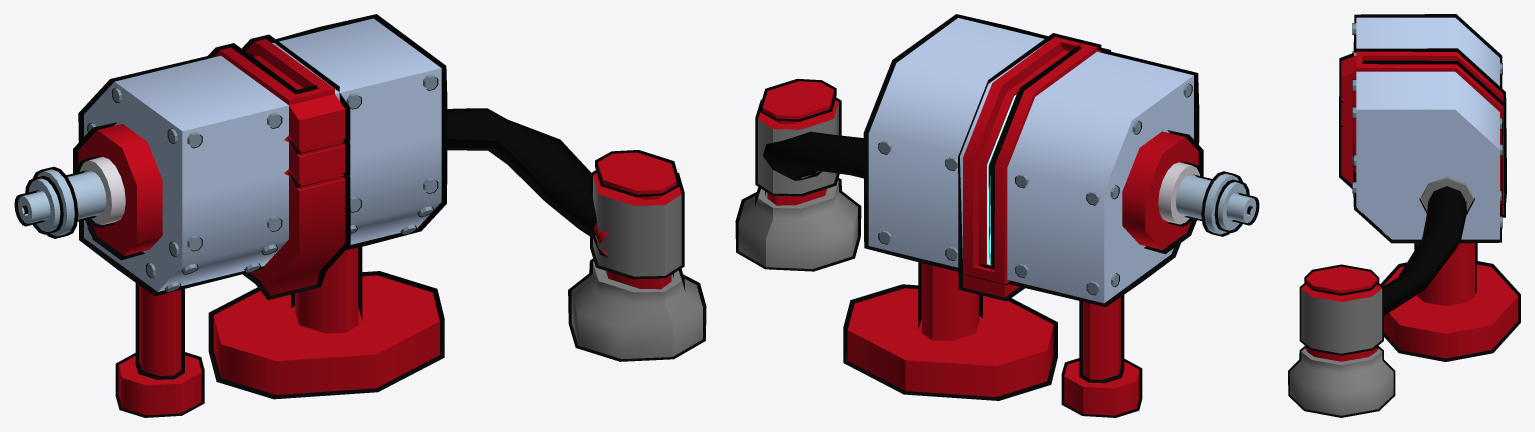
File: LASER GUN.fbx
The picture shows the model from 3 angles, left to right: view 1: azimuth 30°, elevation 25°; view 2: azimuth 150°, elevation 25°; view 3: azimuth 270°, elevation 25°; orthographic projection. The views are drawn at different scales.
Parts seen in each view (by area): view 1: Cube.036; view 2: Cube.036; view 3: Cube.036.
Part boxes in pixels (bbox=[...]): Cube.036: bbox=[14, 14, 706, 417]; Cube.036: bbox=[735, 14, 1259, 417]; Cube.036: bbox=[1288, 14, 1520, 417].
Bounding box in the file's own units: 164 × 84.34 × 73.37.
